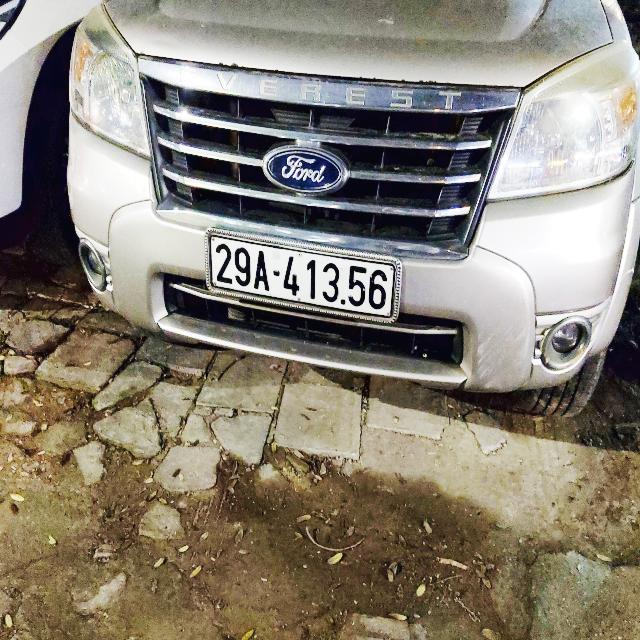license_plate: (204, 224, 407, 332)
